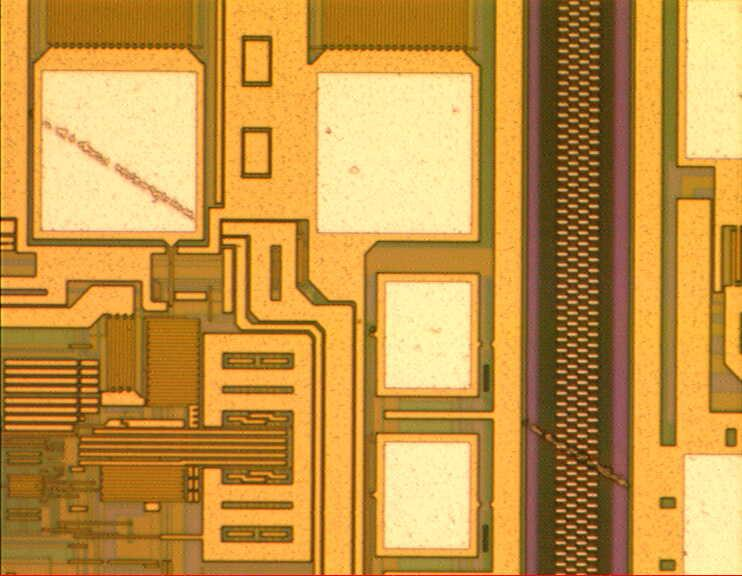SCRATCH: (11, 95, 660, 512)
